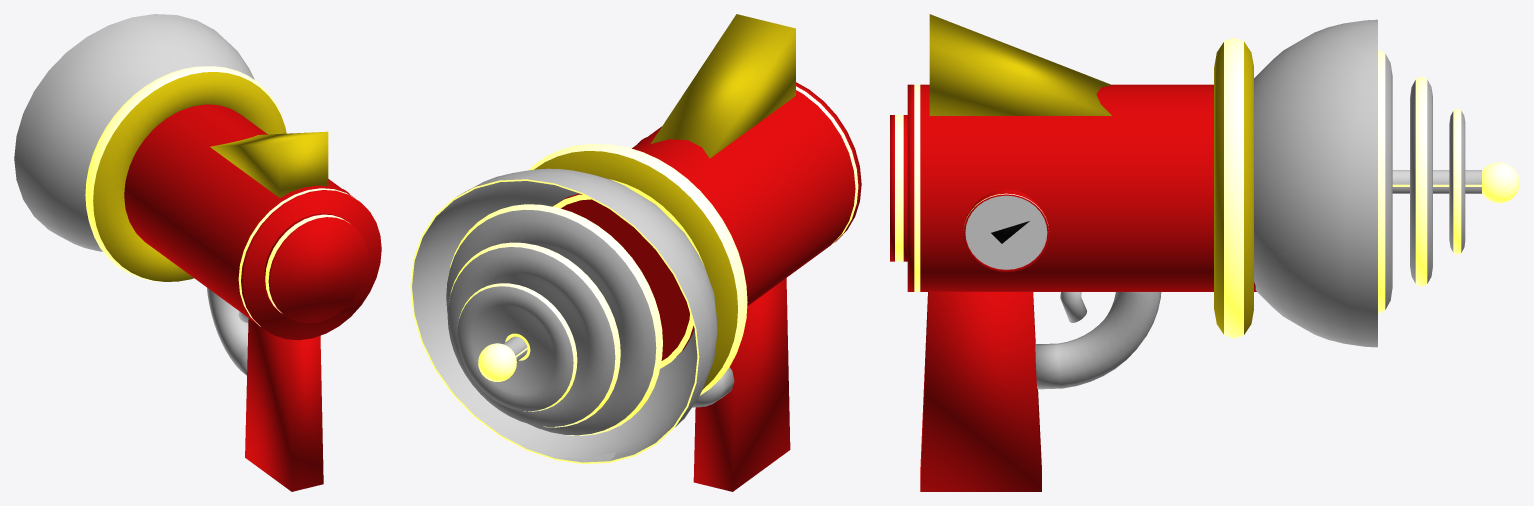
3 renders of one model, left to right at view 1: azimuth 30°, elevation 25°; view 2: azimuth 150°, elevation 25°; view 3: azimuth 270°, elevation 25°, orthographic. The views are drawn at different scales.
Visible parts, largest first — view 1: gunbowl_3; view 2: gunbowl_3; view 3: gunbowl_3.
Part boxes in pixels (bbox=[...]): gunbowl_3: bbox=[14, 14, 381, 491]; gunbowl_3: bbox=[410, 14, 861, 491]; gunbowl_3: bbox=[890, 14, 1519, 491].
Size of the model in its own units: 2.02 by 2.86 by 3.61.
